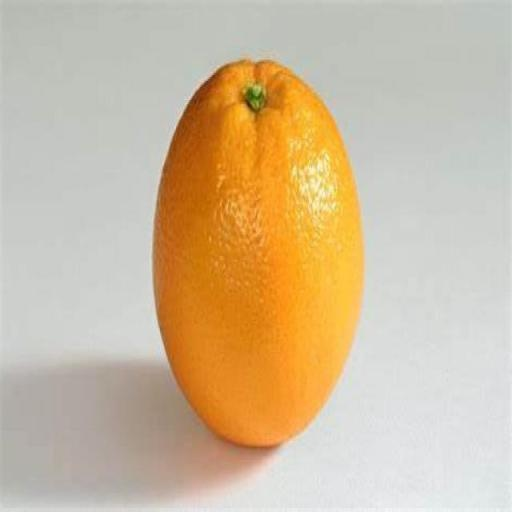fruit: (153, 61, 362, 445)
